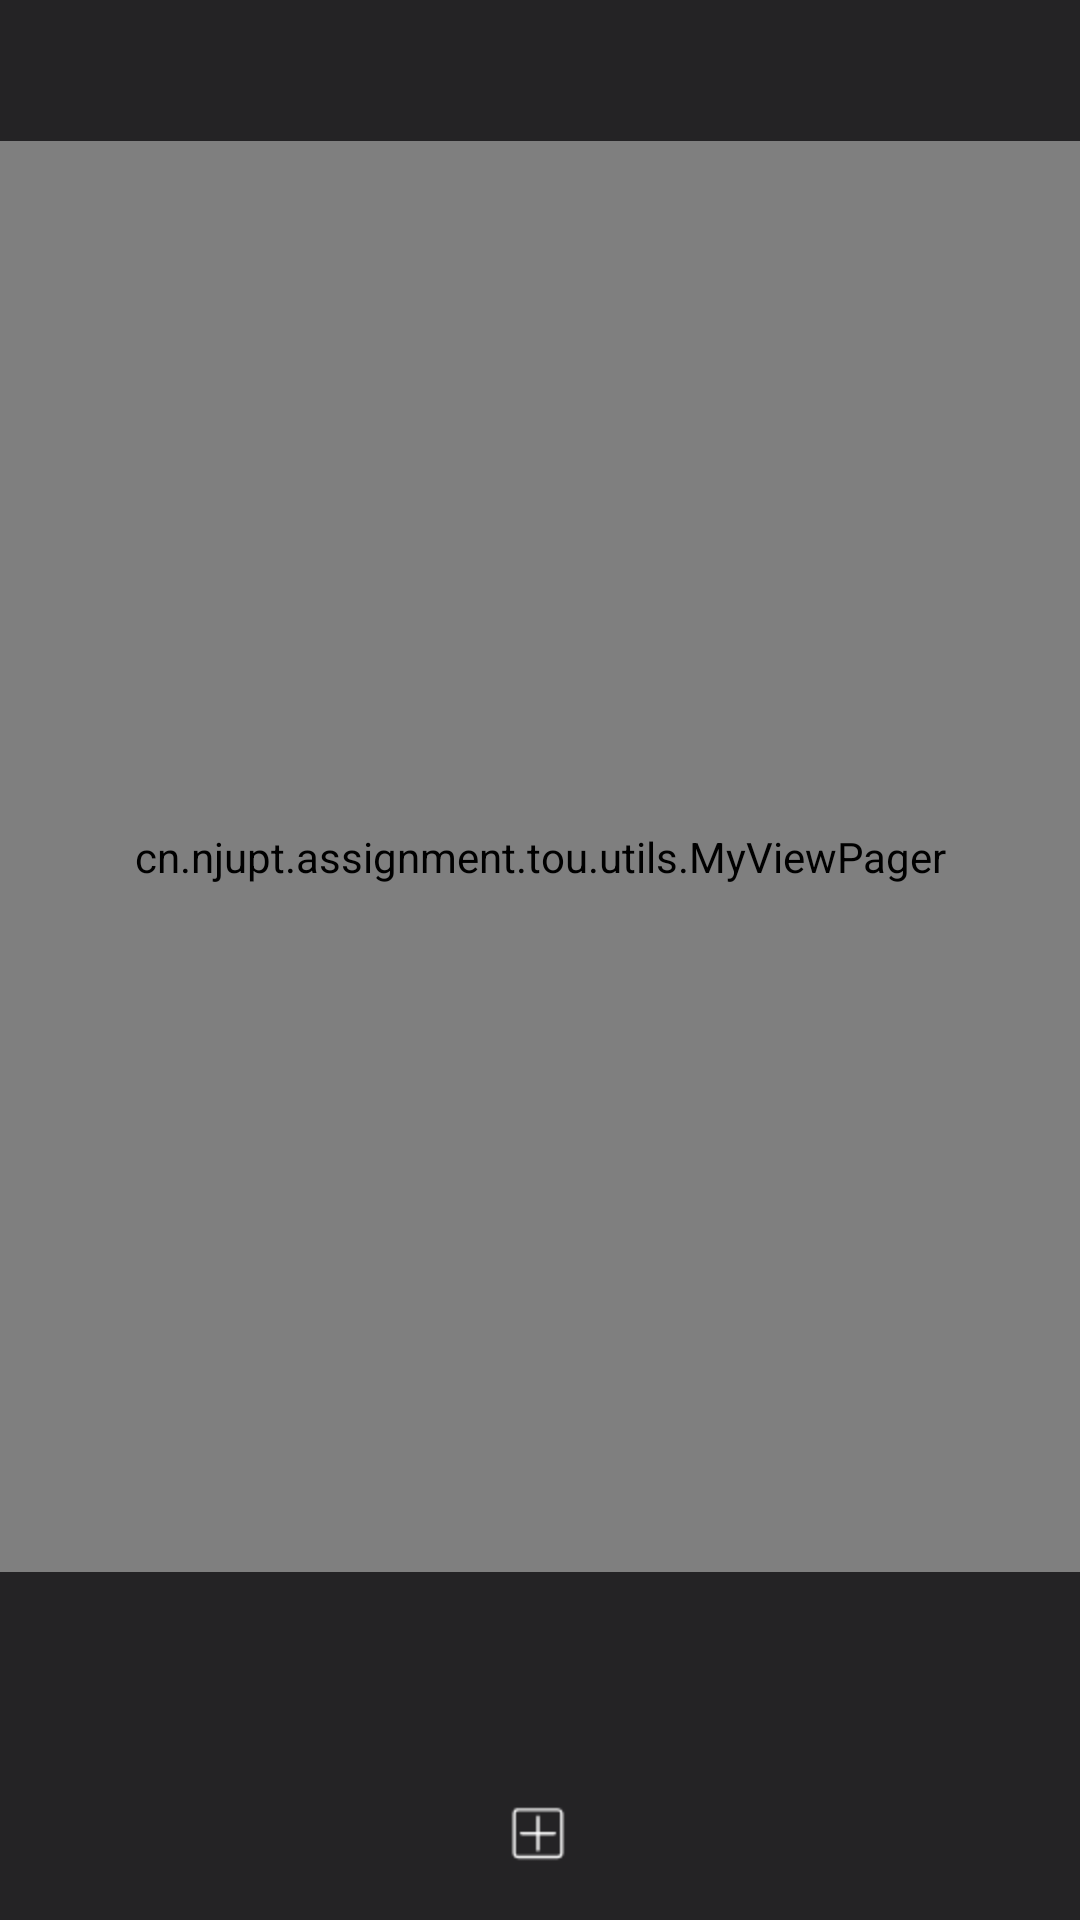

Icon bounding boxes for this 1080x1920 phone screenshot, format {"x1": x1, "y1": y1, "x2": x2, "y2": y2}:
add: {"x1": 511, "y1": 1807, "x2": 565, "y2": 1860}
